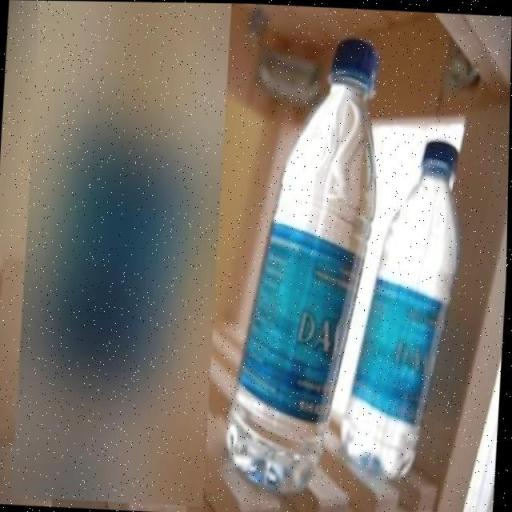plastic: (229, 38, 378, 495), (346, 139, 459, 484)
